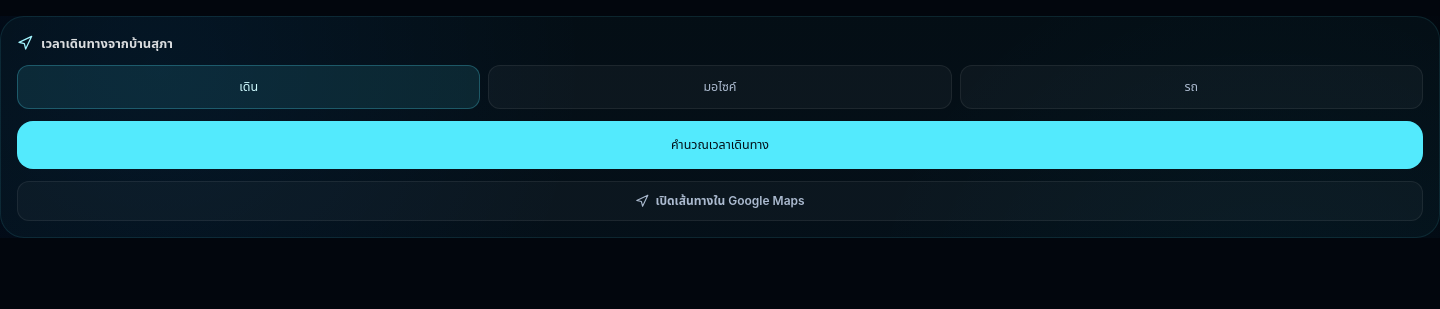
PlaceEtaPanel › does not invent ETA when provider returns no route
Click the button "คำนวณเวลาเดินทาง".
click(720, 145)  # box [17, 121, 1423, 169]
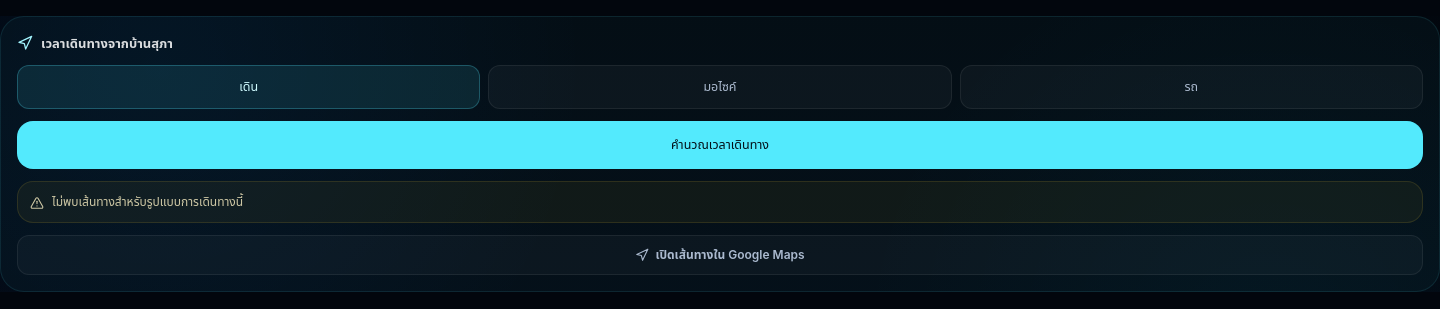
Now the text "ไม่พบเส้นทางสำหรับรูปแบบการเดินทางนี้" is shown, box [52, 194, 243, 210]
